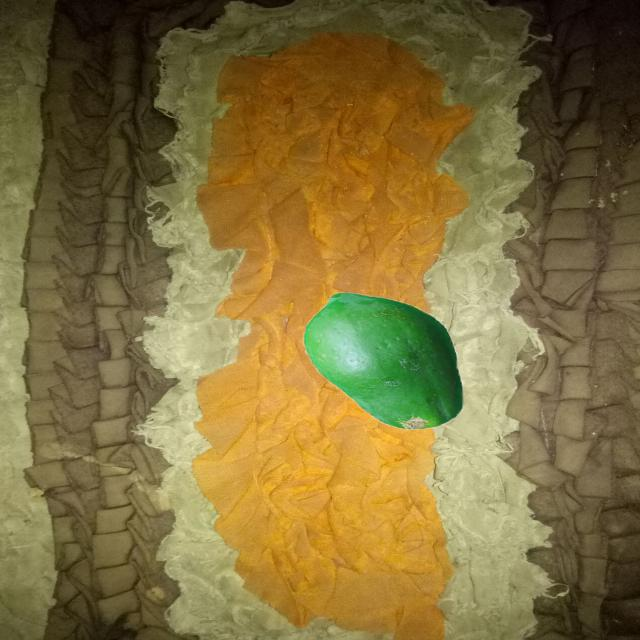Pepaya unrippen: (303, 288, 468, 442)
